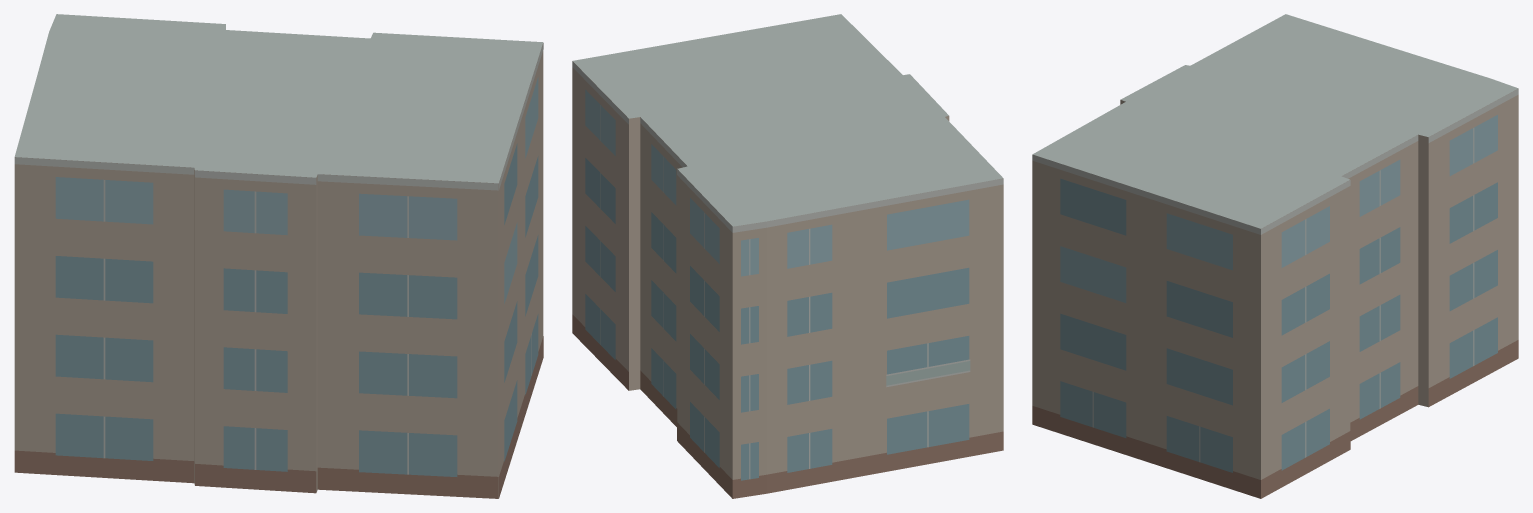
The model's file is survey-upis-32801250.glb.
The picture shows the model from 3 angles, left to right: view 1: azimuth 30°, elevation 25°; view 2: azimuth 150°, elevation 25°; view 3: azimuth 270°, elevation 25°; orthographic projection. The views are drawn at different scales.
Visible parts, largest first — view 1: survey-upis-32801250.tmp; view 2: survey-upis-32801250.tmp; view 3: survey-upis-32801250.tmp.
Part boxes in pixels (x1,y1,x2,y2): survey-upis-32801250.tmp: (14,14,543,498); survey-upis-32801250.tmp: (572,14,1003,498); survey-upis-32801250.tmp: (1032,14,1518,498).
Size of the model in its own units: 18.26 by 10.7 by 17.47.
